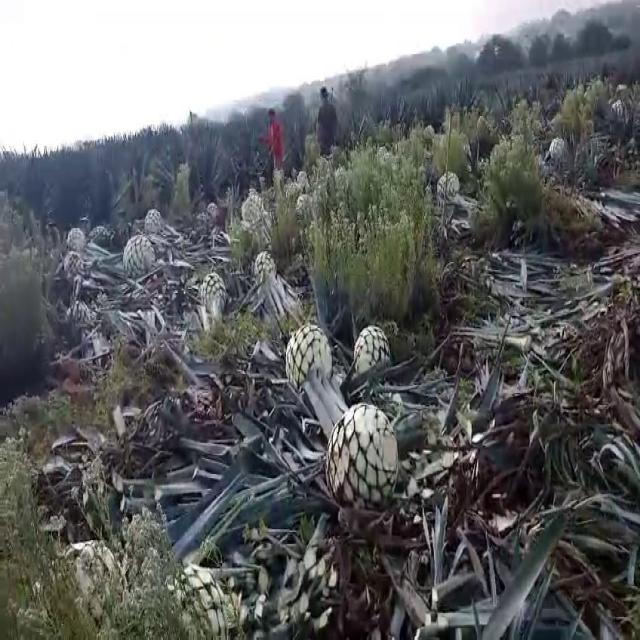agave: (323, 400, 401, 513), (284, 323, 333, 398), (350, 323, 390, 374), (120, 232, 156, 279), (239, 191, 270, 232), (198, 271, 227, 311), (252, 250, 280, 291), (437, 171, 460, 199), (544, 132, 564, 164), (145, 206, 163, 238), (64, 249, 82, 281), (67, 226, 87, 252)
